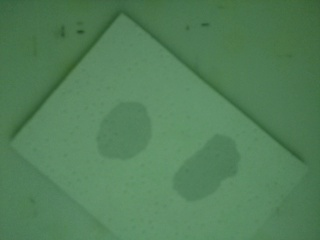Water_detected: (103, 103, 150, 163), (179, 148, 230, 191)
